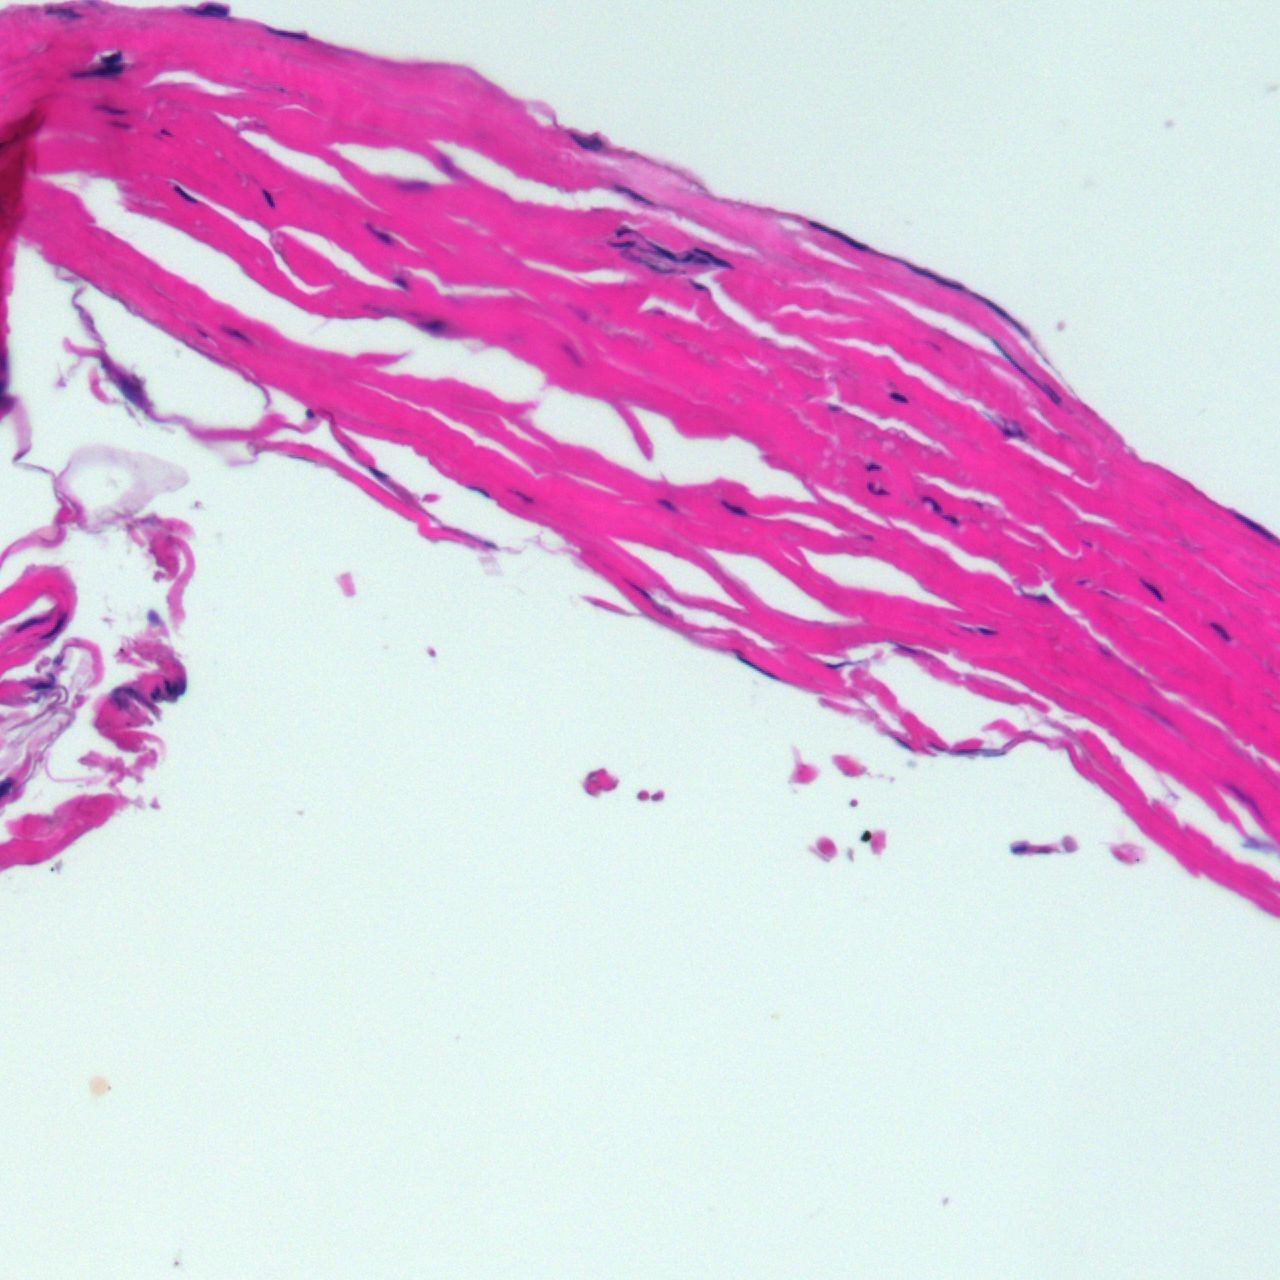dust: (859, 829, 872, 843), (304, 407, 315, 418)
nucleus-HE: (989, 334, 1065, 408), (968, 288, 1035, 339), (1219, 774, 1273, 825), (804, 215, 870, 256), (903, 258, 969, 297), (614, 248, 688, 281), (1228, 504, 1280, 550), (622, 574, 669, 618), (727, 645, 777, 685), (566, 121, 607, 157), (883, 631, 930, 662), (692, 241, 734, 272), (1133, 568, 1167, 606), (612, 181, 655, 207), (38, 610, 72, 644), (218, 318, 254, 349), (69, 64, 125, 83), (1201, 614, 1235, 645), (361, 218, 395, 247), (12, 610, 52, 634), (716, 493, 751, 520), (888, 730, 920, 758), (558, 339, 585, 372), (647, 239, 679, 265), (264, 23, 309, 41), (956, 620, 998, 639), (685, 274, 714, 299), (172, 181, 198, 207), (998, 417, 1028, 440), (508, 486, 538, 508), (462, 481, 493, 501), (652, 492, 680, 515), (918, 491, 942, 516), (365, 462, 390, 485), (45, 4, 82, 19), (414, 316, 448, 333), (885, 386, 911, 407), (258, 184, 278, 210), (98, 48, 125, 67), (164, 676, 186, 696), (1021, 590, 1051, 604), (393, 178, 429, 190), (865, 479, 890, 496), (94, 103, 128, 115), (390, 273, 411, 292), (822, 660, 864, 668), (104, 120, 135, 130), (438, 151, 452, 173), (606, 239, 635, 248), (1095, 642, 1114, 656), (615, 227, 638, 238), (942, 512, 958, 526), (29, 681, 54, 689), (864, 461, 881, 471), (1073, 576, 1090, 586), (150, 685, 162, 699), (858, 532, 874, 540), (828, 403, 842, 411)
